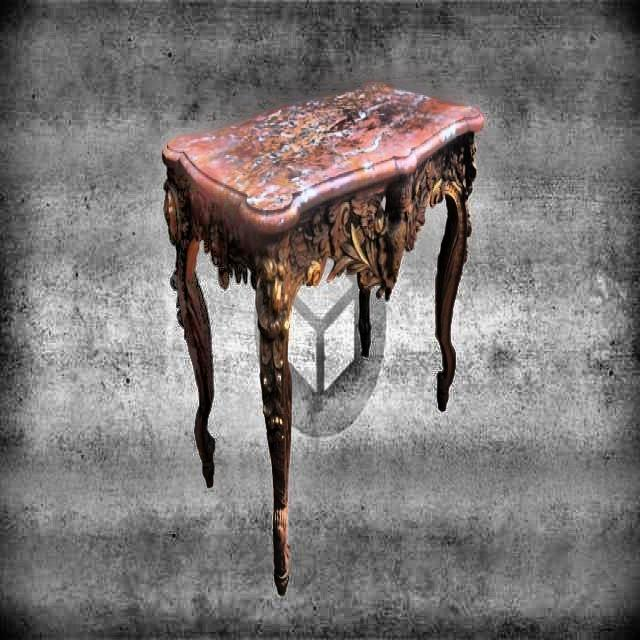mesa: (160, 80, 487, 594)
